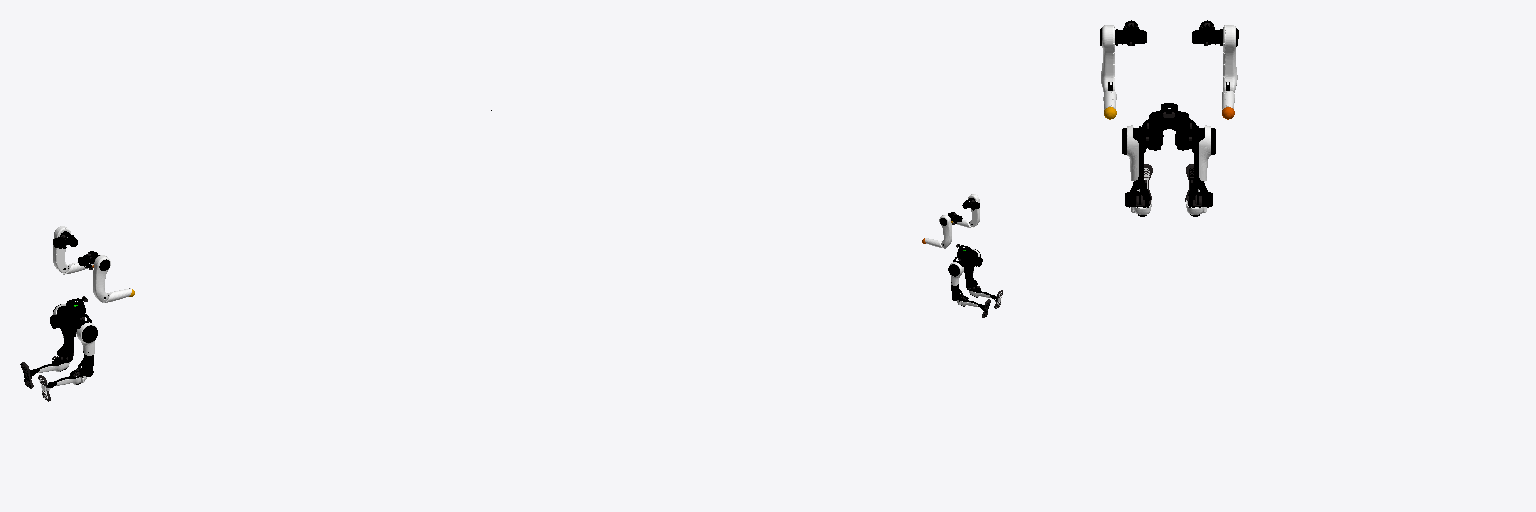
The robot description file, URDF, robot "WuKongIV":
<?xml version="1.0" encoding="utf-8"?>
<robot name="WuKongIV">

  <link name="world">
  </link>
  
  <joint name="BackPin" type="fixed">
    <origin xyz="0 0 2.0" />
    <parent link="world" />
    <child link="SACRUM" />
  </joint>
  
  <link name="SACRUM">
    <inertial>
      <mass value="0" />
      <inertia ixx="0" ixy="0" ixz="0" iyy="0" iyz="0" izz="0" />
    </inertial>
    <visual>
      <geometry>
        <mesh filename="../meshes_dae/SACRUM.dae" />
      </geometry>
    </visual>
  </link>

  <link name="BASE_INER">
    <inertial>
      <origin xyz="0.00096078 -2.1928E-05 -0.025162" />
      <mass value="3.2422" />
      <inertia ixx="0.01008488" ixy="-8.7E-07" ixz="-0.00016364" iyy="0.00548956" iyz="-2.8E-07" izz="0.00997073" />
    </inertial>
  </link>

  <joint name="Base2Iner" type="fixed">
    <parent link="SACRUM" />
    <child link="BASE_INER" />
  </joint>

  <link name="TORSO">
    <inertial>
      <origin xyz="0.002727 0.00010666 0.18215" />
      <mass value="14.544" />
      <inertia ixx="0.44797196" ixy="-0.00008178" ixz="-0.00554868" iyy="0.34075748" iyz="0.00021549" izz="0.17876604" />
    </inertial>
    <visual>
      <geometry>
        <mesh filename="../meshes_dae/TORSO.dae" />
      </geometry>
    </visual>
    <collision>
      <origin xyz="0 0 0.15" />
      <geometry>
        <box size="0.2 0.31 0.48"/>
      </geometry>
    </collision>
  </link>

  <joint name="Waist" type="revolute">
    <origin xyz="0.00010001 0 0.03751" />
    <parent link="SACRUM" />
    <child link="TORSO" />
    <axis xyz="0 0 1" />
    <limit lower="-0.698" upper="0.698" effort="84" velocity="7.85" />
    <dynamics damping="0" friction="0" />
  </joint>

  <link name="SCAPULA_R">
    <inertial>
      <origin xyz="-0.017297 -0.00031922 -0.0027747" />
      <mass value="1.0094" />
      <inertia ixx="0.00072781" ixy="0.00000511" ixz="0.00004844" iyy="0.00090651" iyz="0.0000138" izz="0.00084392" />
    </inertial>
    <visual>
      <geometry>
        <mesh filename="../meshes_dae/SCAPULA_R.dae" />
      </geometry>
    </visual>
  </link>

  <joint name="Shoulder_Z_R" type="revolute">
    <origin xyz="0 -0.1725 0.35275" />
    <parent link="TORSO" />
    <child link="SCAPULA_R" />
    <axis xyz="0 0 -1" />
    <limit lower="-0.366" upper="0.366" effort="100" velocity="4.1" />
    <dynamics damping="0" friction="0" />
  </joint>

  <link name="SHOULDER_R">
    <inertial>
      <origin xyz="-0.0030034 0.022918 0.00033814" />
      <mass value="0.95868" />
      <inertia ixx="0.00071081" ixy="-0.00006653" ixz="1.371E-06" iyy="0.00069481" iyz="0.00000687" izz="0.00077233" />
    </inertial>
    <visual>
      <geometry>
        <mesh filename="../meshes_dae/SHOULDER_R.dae" />
      </geometry>
    </visual>
  </link>

  <joint name="Shoulder_X_R" type="revolute">
    <origin xyz="0.05725 0 0" />
    <parent link="SCAPULA_R" />
    <child link="SHOULDER_R" />
    <axis xyz="-1 0 0" />
    <limit lower="-0.366" upper="0.366" effort="100" velocity="4.1" />
    <dynamics damping="0" friction="0" />
  </joint>

  <link name="UPPERARM_R">
    <inertial>
      <origin xyz="-0.0063123 0.020504 -0.048583" />
      <mass value="1.7239" />
      <inertia ixx="0.01622246" ixy="-0.00031829" ixz="-0.00100646" iyy="0.01499852" iyz="-0.00172217" izz="0.00352944" />
    </inertial>
    <visual>
      <geometry>
        <mesh filename="../meshes_dae/UPPERARM_R.dae" />
      </geometry>
    </visual>
    <collision>
      <origin xyz="-0.01 -0.005 -0.13" />
      <geometry>
        <box size="0.05 0.05 0.26" />
      </geometry>
    </collision> 
    <collision>
      <origin xyz="0 -0.01 0" rpy="1.57 0 0" />
      <geometry>
        <cylinder length="0.06" radius="0.05"/>
      </geometry>
    </collision> 
  </link>

  <joint name="Shoulder_Y_R" type="revolute">
    <origin xyz="0 -0.09525 0" />
    <parent link="SHOULDER_R" />
    <child link="UPPERARM_R" />
    <axis xyz="0 1 0" />
    <limit lower="-1.788" upper="0.714" effort="28" velocity="14.65" />
    <dynamics damping="0" friction="0" />
  </joint>

  <link name="FOREARM_R">
    <inertial>
      <origin xyz="0.10118 -0.00089188 -0.021779" />
      <mass value="0.37113" />
      <inertia ixx="0.00042911" ixy="0.00003147" ixz="0.00090579" iyy="0.00609032" iyz="-0.00000761" izz="0.00587061" />
    </inertial>
    <visual>
      <geometry>
        <mesh filename="../meshes_dae/FOREARM_R.dae" />
      </geometry>
    </visual>
  </link>

  <joint name="Elbow_R" type="revolute">
    <origin xyz="0 0 -0.25" />
    <parent link="UPPERARM_R" />
    <child link="FOREARM_R" />
    <axis xyz="0 1 0" />
    <limit lower="-1.274" upper="0.923" effort="28" velocity="14.65" />
    <dynamics damping="0" friction="0" />
  </joint>

  <link name="HAND_R">
    <inertial>
      <origin xyz="0.020883 0 -0.00068565" />
      <mass value="0.085665" />
      <inertia ixx="3.7989E-05" ixy="0" ixz="-2E-07" iyy="3.1765E-05" iyz="0" izz="3.1772E-05" />
    </inertial>
    <visual>
      <geometry>
        <sphere radius="0.03"/>
      </geometry>
      </visual>
    <collision>
      <origin xyz="0.01 0 0" />
      <geometry>
        <sphere radius="0.03"/>
      </geometry>
    </collision>
  </link>

  <joint name="Wrist_R" type="fixed">
    <origin xyz="0.22429 0 -0.0252" />
    <parent link="FOREARM_R" />
    <child link="HAND_R" />
    <dynamics damping="0" friction="0" />
  </joint>

  <link name="SCAPULA_L">
    <inertial>
      <origin xyz="-0.017301 0.00030058 -0.0027747" />
      <mass value="1.0094" />
      <inertia ixx="0.00072792" ixy="-5.71E-06" ixz="0.0000483" iyy="0.00090637" iyz="0.00001413" izz="0.0008439" />
    </inertial>
    <visual>
      <geometry>
        <mesh filename="../meshes_dae/SCAPULA_L.dae" />
      </geometry>
    </visual>
  </link>

  <joint name="Shoulder_Z_L" type="revolute">
    <origin xyz="0 0.1725 0.35275" />
    <parent link="TORSO" />
    <child link="SCAPULA_L" />
    <axis xyz="0 0 1" />
    <limit lower="-0.366" upper="0.366" effort="100" velocity="4.1" />
    <dynamics damping="0" friction="0" />
  </joint>

  <link name="SHOULDER_L">
    <inertial>
      <origin xyz="-0.0030034 -0.022922 0.00031317" />
      <mass value="0.95868" />
      <inertia ixx="0.00071064" ixy="0.00006639" ixz="0.00001402" iyy="0.00069483" iyz="-0.00000745" izz="0.00077215" />
    </inertial>
    <visual>
      <geometry>
        <mesh filename="../meshes_dae/SHOULDER_L.dae" />
      </geometry>
    </visual>
  </link>

  <joint name="Shoulder_X_L" type="revolute">
    <origin xyz="0.05725 0 0" />
    <parent link="SCAPULA_L" />
    <child link="SHOULDER_L" />
    <axis xyz="1 0 0" />
    <limit lower="-0.366" upper="0.366" effort="100" velocity="4.1" />
    <dynamics damping="0" friction="0" />
  </joint>

  <link name="UPPERARM_L">
    <inertial>
      <origin xyz="-0.0056932 -0.020527 -0.048691" />
      <mass value="1.7224" />
      <inertia ixx="0.01539894" ixy="-1.954E-05" ixz="-0.00132865" iyy="0.01452480" iyz="0.00199437" izz="0.00387488" />
    </inertial>
    <visual>
      <geometry>
        <mesh filename="../meshes_dae/UPPERARM_L.dae" />
      </geometry>
    </visual>
    <collision>
      <origin xyz="-0.01 0.005 -0.13" />
      <geometry>
        <box size="0.05 0.05 0.26" />
      </geometry>
    </collision> 
    <collision>
      <origin xyz="0 0.01 0" rpy="1.57 0 0" />
      <geometry>
        <cylinder length="0.06" radius="0.05"/>
      </geometry>
    </collision> 
  </link> 

  <joint name="Shoulder_Y_L" type="revolute">
    <origin xyz="0 0.09525 0" />
    <parent link="SHOULDER_L" />
    <child link="UPPERARM_L" />
    <axis xyz="0 1 0" />
    <limit lower="-1.788" upper="0.714" effort="28" velocity="14.65" />
    <dynamics damping="0" friction="0" />
  </joint>

  <link name="FOREARM_L">
    <inertial>
      <origin xyz="0.10119 0.00088935 -0.02178" />
      <mass value="0.37117" />
      <inertia ixx="0.00025279" ixy="0.00000211" ixz="8.779E-05" iyy="0.00211374" iyz="4.4E-07" izz="0.00206977" />
    </inertial>
    <visual>
      <geometry>
        <mesh filename="../meshes_dae/FOREARM_L.dae" />
      </geometry>
    </visual>
  </link>

  <joint name="Elbow_L" type="revolute">
    <origin xyz="0 0 -0.25" />
    <parent link="UPPERARM_L" />
    <child link="FOREARM_L" />
    <axis xyz="0 1 0" />
    <limit lower="-1.274" upper="0.923" effort="28" velocity="14.65" />
    <dynamics damping="0" friction="0" />
  </joint>

  <link name="HAND_L">
    <inertial>
      <origin xyz="0.021882 4.6532E-07 -0.00071846" />
      <mass value="0.085665" />
      <inertia ixx="3.7989E-05" ixy="0" ixz="-2E-07" iyy="3.1765E-05" iyz="0" izz="3.1772E-05" />
    </inertial>
    <visual>
      <geometry>
        <sphere radius="0.03"/>
      </geometry>
    </visual>
    <collision>
      <origin xyz="0.01 0 0" />
      <geometry>
        <sphere radius="0.03"/>
      </geometry>
    </collision>
  </link>

  <joint name="Wrist_L" type="fixed">
    <origin xyz="0.2243 0 -0.02505" />
    <parent link="FOREARM_L" />
    <child link="HAND_L" />
    <dynamics damping="0" friction="0" />
  </joint>

  <link name="ILIUM_R">
    <inertial>
      <origin xyz="-0.075151 -0.029746 0.011661" />
      <mass value="1.6695" />
      <inertia ixx="0.0031277" ixy="-0.00030585" ixz="-0.00138371" iyy="0.00641746" iyz="-0.00027709" izz="0.00540224" />
    </inertial>
    <visual>
      <geometry>
        <mesh filename="../meshes_dae/ILIUM_R.dae" />
      </geometry>
    </visual>
    <collision>
      <origin xyz="-0.129 -0.032 0" rpy="0 1.57 0" />
      <geometry>
        <cylinder length="0.02" radius="0.046"/>
      </geometry>
    </collision>
  </link>

  <joint name="Hip_Z_R" type="revolute">
    <origin xyz="0.00010001 -0.045 -0.15049" />
    <parent link="SACRUM" />
    <child link="ILIUM_R" />
    <axis xyz="0 0 -1" />
    <limit lower="-0.174" upper="0.174" effort="84" velocity="7.85" />
    <dynamics damping="0" friction="0" />
  </joint>

  <link name="ISCHIUM_R">
    <inertial>
      <origin xyz="-0.0061454 0.0083018 -0.00041435" />
      <mass value="1.489" />
      <inertia ixx="0.00123482" ixy="-8.78E-05" ixz="-0.00003823" iyy="0.00216773" iyz="-7.68E-06" izz="0.00170290" />
    </inertial>
    <visual>
      <geometry>
        <mesh filename="../meshes_dae/ISCHIUM_R.dae" />
      </geometry>
    </visual>
  </link>

  <joint name="Hip_X_R" type="revolute">
    <origin xyz="0 -0.0325 0" />
    <parent link="ILIUM_R" />
    <child link="ISCHIUM_R" />
    <axis xyz="-1 0 0" />
    <limit lower="-0.349" upper="0.349" effort="84" velocity="7.85" />
    <dynamics damping="0" friction="0" />
  </joint>

  <link name="THIGH_R">
    <inertial>
      <origin xyz="0.0047566 -0.027902 -0.039381" />
      <mass value="3.5319" />
      <inertia ixx="0.02861456" ixy="-0.00013987" ixz="0.00177396" iyy="0.02934292" iyz="0.00138919" izz="0.00585688" />
    </inertial>
    <visual>
      <geometry>
        <mesh filename="../meshes_dae/THIGH_R.dae" />
      </geometry>
    </visual>
    <collision>
      <origin xyz="0 -0.02 -0.132" />
      <geometry>
        <cylinder length="0.30" radius="0.05"/>
      </geometry>
    </collision>
    <collision>
      <origin xyz="0 -0.04 -0.01" rpy="1.57 0 0" />
      <geometry>
        <cylinder length="0.10" radius="0.066"/>
      </geometry>
    </collision>
  </link>

  <joint name="Hip_Y_R" type="revolute">
    <origin xyz="0 -0.0432 0" />
    <parent link="ISCHIUM_R" />
    <child link="THIGH_R" />
    <axis xyz="0 1 0" />
    <limit lower="-2.207" upper="0.462" effort="84" velocity="7.85" />
    <dynamics damping="0" friction="0" />
  </joint>

  <link name="SHANK_R">
    <inertial>
      <origin xyz="0.010628 -0.0095812 -0.051247" />
      <mass value="2.7397" />
      <inertia ixx="0.01492817" ixy="-0.00027923" ixz="0.00061306" iyy="0.01461087" iyz="0.00072764" izz="0.00321124" />
    </inertial>
    <visual>
      <geometry>
        <mesh filename="../meshes_dae/SHANK_R.dae" />
      </geometry>
    </visual>
    <collision>
      <origin xyz="0.02 0 -0.16" rpy="0 0.3 0" />
      <geometry>
        <cylinder length="0.18" radius="0.02"/>
      </geometry>
    </collision>
    <collision>
      <origin xyz="0.05 0 -0.04" rpy="0 1.57 0" />
      <geometry>
        <cylinder length="0.05" radius="0.036"/>
      </geometry>
    </collision>
    <collision>
      <origin xyz="0.05 0 -0.06" rpy="0 1.57 0" />
      <geometry>
        <cylinder length="0.05" radius="0.036"/>
      </geometry>
    </collision>
  </link>

  <joint name="Knee_R" type="revolute">
    <origin xyz="0 0 -0.3" />
    <parent link="THIGH_R" />
    <child link="SHANK_R" />
    <axis xyz="0 1 0" />
    <limit lower="0.071" upper="2.617" effort="180" velocity="12" />
    <dynamics damping="0" friction="0" />
  </joint>

  <link name="ASTRAGALUS_R">
    <inertial>
      <origin xyz="-0.014376 -3.454E-05 0.0057672" />
      <mass value="0.068615" />
      <inertia ixx="8.86E-06" ixy="-2E-08" ixz="5.49E-07" iyy="0.00002951" iyz="4E-08" izz="0.00002574" />
    </inertial>
    <visual>
      <geometry>
        <mesh filename="../meshes_dae/ASTRAGALUS.dae" />
      </geometry>
    </visual>
  </link>

  <joint name="Ankle_Y_R" type="revolute">
    <origin xyz="0 0 -0.3" />
    <parent link="SHANK_R" />
    <child link="ASTRAGALUS_R" />
    <axis xyz="0 1 0" />
    <limit lower="-1.134" upper="0.261" effort="28" velocity="14.65" />
    <dynamics damping="0" friction="0" />
  </joint>

  <link name="FOOT_R">
    <inertial>
      <origin xyz="-5.1084E-10 -0.0010736 -0.024732" />
      <mass value="0.23297" />
      <inertia ixx="0.00010981" ixy="-2.5096E-10" ixz="8.0022E-13" iyy="0.00058824" iyz="3.92E-06" izz="0.00065893" />
    </inertial>
    <visual>
      <geometry>
        <mesh filename="../meshes_dae/FOOT_R.dae" />
      </geometry>
    </visual>
  </link>

  <joint name="Ankle_X_R" type="revolute">
    <parent link="ASTRAGALUS_R" />
    <child link="FOOT_R" />
    <axis xyz="-1 0 0" />
    <limit lower="-0.222" upper="0.222" effort="28" velocity="14.65" />
    <dynamics damping="0" friction="0" />
  </joint>

  <link name="TIPTOE_R">
    <inertial>
      <origin xyz="0.001 0.001 -0.0052715" />
      <mass value="0.19293" />
      <inertia ixx="0.00012184" ixy="0" ixz="0" iyy="0.00079695" iyz="0" izz="0.00090791" />
    </inertial>
    <visual>
      <geometry>
        <mesh filename="../meshes_dae/TIPTOE.dae" />
      </geometry>
    </visual>
    <collision>
      <origin xyz="0 0 0.005"/>
      <geometry>
        <box size="0.18 0.08 0.01"/>
      </geometry>
    </collision>
  </link>

  <joint name="Tiptoe_Z_R" type="fixed">
    <origin xyz="0 0 -0.031" />
    <parent link="FOOT_R" />
    <child link="TIPTOE_R" />
  </joint>

  <link name="ILIUM_L">
    <inertial>
      <origin xyz="-0.075166 0.029681 0.011765" />
      <mass value="1.6675" />
      <inertia ixx="0.00312613" ixy="0.0003" ixz="-0.0013813" iyy="0.00641573" iyz="0.00027496" izz="0.00540253" />
    </inertial>
    <visual>
      <geometry>
        <mesh filename="../meshes_dae/ILIUM_L.dae" />
      </geometry>
    </visual>
    <collision>
      <origin xyz="-0.129 0.032 0" rpy="0 1.57 0" />
      <geometry>
        <cylinder length="0.02" radius="0.046"/>
      </geometry>
    </collision>
  </link>

  <joint name="Hip_Z_L" type="revolute">
    <origin xyz="0.00010001 0.045 -0.15049" />
    <parent link="SACRUM" />
    <child link="ILIUM_L" />
    <axis xyz="0 0 1" />
    <limit lower="-0.174" upper="0.174" effort="84" velocity="7.85" />
    <dynamics damping="0" friction="0" />
  </joint>

  <link name="ISCHIUM_L">
    <inertial>
      <origin xyz="-0.0061396 -0.0083018 -0.00049822" />
      <mass value="1.489" />
      <inertia ixx="0.00123473" ixy="0.00008691" ixz="-0.00003659" iyy="0.00216555" iyz="0.00000356" izz="0.00170081" />
    </inertial>
    <visual>
      <geometry>
        <mesh filename="../meshes_dae/ISCHIUM_L.dae" />
      </geometry>
    </visual>
  </link>

  <joint name="Hip_X_L" type="revolute">
    <origin xyz="0 0.0325 0" />
    <parent link="ILIUM_L" />
    <child link="ISCHIUM_L" />
    <axis xyz="1 0 0" />
    <limit lower="-0.349" upper="0.349" effort="84" velocity="7.85" />
    <dynamics damping="0" friction="0" />
  </joint>

  <link name="THIGH_L">
    <inertial>
      <origin xyz="0.0048204 0.029872 -0.039658" />
      <mass value="3.5416" />
      <inertia ixx="0.02873630" ixy="0.00014184" ixz="0.00179307" iyy="0.02945913" iyz="-0.00141552" izz="0.00587297" />
    </inertial>
    <visual>
      <geometry>
        <mesh filename="../meshes_dae/THIGH_L.dae" />
      </geometry>
    </visual>
    <collision>
      <origin xyz="0 0.02 -0.132" />
      <geometry>
        <cylinder length="0.30" radius="0.05"/>
      </geometry>
    </collision>
    <collision>
      <origin xyz="0 0.04 -0.01" rpy="1.57 0 0" />
      <geometry>
        <cylinder length="0.10" radius="0.066"/>
      </geometry>
    </collision>
  </link>

  <joint name="Hip_Y_L" type="revolute">
    <origin xyz="0 0.0412 0" />
    <parent link="ISCHIUM_L" />
    <child link="THIGH_L" />
    <axis xyz="0 1 0" />
    <limit lower="-2.207" upper="0.462" effort="84" velocity="7.85" />
    <dynamics damping="0" friction="0" />
  </joint>

  <link name="SHANK_L">
    <inertial>
      <origin xyz="0.010866 0.0095055 -0.052181" />
      <mass value="2.7463" />
      <inertia ixx="0.01498291" ixy="0.0002868" ixz="0.00062657" iyy="0.01462625" iyz="-0.00072343" izz="0.00332056" />
    </inertial>
    <visual>
      <geometry>
        <mesh filename="../meshes_dae/SHANK_L.dae" />
      </geometry>
    </visual>
    <collision>
      <origin xyz="0.02 0 -0.16" rpy="0 0.3 0" />
      <geometry>
        <cylinder length="0.18" radius="0.02"/>
      </geometry>
    </collision>
    <collision>
      <origin xyz="0.05 0 -0.04" rpy="0 1.57 0" />
      <geometry>
        <cylinder length="0.05" radius="0.036"/>
      </geometry>
    </collision>
    <collision>
      <origin xyz="0.05 0 -0.06" rpy="0 1.57 0" />
      <geometry>
        <cylinder length="0.05" radius="0.036"/>
      </geometry>
    </collision>
  </link>

  <joint name="Knee_L" type="revolute">
    <origin xyz="0 0 -0.3" />
    <parent link="THIGH_L" />
    <child link="SHANK_L" />
    <axis xyz="0 1 0" />
    <limit lower="0.071" upper="2.617" effort="180" velocity="12" />
    <dynamics damping="0" friction="0" />
  </joint>

  <link name="ASTRAGALUS_L">
    <inertial>
      <origin xyz="-0.014376 -3.4496E-05 0.0057671" />
      <mass value="0.068615" />
      <inertia ixx="8.86E-06" ixy="-2E-08" ixz="5.49E-06" iyy="0.00002951" iyz="4E-08" izz="0.00002574" />
    </inertial>
    <visual>
      <geometry>
        <mesh filename="../meshes_dae/ASTRAGALUS.dae" />
      </geometry>
    </visual>
  </link>

  <joint name="Ankle_Y_L" type="revolute">
    <origin xyz="0 0 -0.3" />
    <parent link="SHANK_L" />
    <child link="ASTRAGALUS_L" />
    <axis xyz="0 1 0" />
    <limit lower="-1.134" upper="0.261" effort="28" velocity="14.65" />
    <dynamics damping="0" friction="0" />
  </joint>

  <link name="FOOT_L">
    <inertial>
      <origin xyz="1.1755E-08 0.0010736 -0.024732" />
      <mass value="0.23297" />
      <inertia ixx="0.00010981" ixy="-2.5096E-10" ixz="-8.0022E-13" iyy="0.00058824" iyz="-3.9216E-06" izz="0.00065893" />
    </inertial>
    <visual>
      <geometry>
        <mesh filename="../meshes_dae/FOOT_L.dae" />
      </geometry>
    </visual>
  </link>

  <joint name="Ankle_X_L" type="revolute">
    <parent link="ASTRAGALUS_L" />
    <child link="FOOT_L" />
    <axis xyz="1 0 0" />
    <limit lower="-0.222" upper="0.222" effort="28" velocity="14.65" />
    <dynamics damping="0" friction="0" />
  </joint>

  <link name="TIPTOE_L">
    <inertial>
      <origin xyz="0 0 -0.0052715" />
      <mass value="0.19293" />
      <inertia ixx="0.00012184" ixy="0" ixz="0" iyy="0.00079695" iyz="0" izz="0.00090791" />
    </inertial>
    <visual>
      <geometry>
        <mesh filename="../meshes_dae/TIPTOE.dae" />
      </geometry>
    </visual>
    <collision>
      <origin xyz="0 0 0.005"/>
      <geometry>
        <box size="0.18 0.08 0.01"/>
      </geometry>
    </collision>
  </link>

  <joint name="Tiptoe_Z_L" type="fixed">
    <origin xyz="0 0 -0.031" />
    <parent link="FOOT_L" />
    <child link="TIPTOE_L" />
  </joint>
</robot>

--- What the picture shows (computed from the rendered views, not written in the file) ---
The picture shows the robot from 3 angles, left to right: view 1: azimuth 30°, elevation 25°; view 2: azimuth 150°, elevation 25°; view 3: azimuth 270°, elevation 25°; orthographic projection.
Model WuKongIV with 28 links and 27 joints (21 revolute, 6 fixed), rooted at world, posed all joints at 0 but 2 set to mid-range because 0 is outside their limits (Knee_R = 1.34, Knee_L = 1.34).
Visible links, largest first — view 1: THIGH_R, UPPERARM_R; view 2: none; view 3: THIGH_R, THIGH_L, UPPERARM_L, UPPERARM_R, SACRUM.
Link boxes in pixels (bbox=[...]): THIGH_R: bbox=[76, 320, 97, 376]; UPPERARM_R: bbox=[92, 254, 110, 301]; THIGH_R: bbox=[1122, 125, 1148, 207]; THIGH_L: bbox=[1189, 125, 1215, 207]; UPPERARM_L: bbox=[1206, 25, 1238, 92]; UPPERARM_R: bbox=[1100, 25, 1131, 91]; SACRUM: bbox=[1147, 103, 1191, 130].
Size in the robot's own frame: 4.39 by 1.64 by 1.06 metres.
Meshes: 22 distinct files referenced, 23 mesh visuals loaded (21 Collada DAE); not drawn: 1 (reference not matched to a file when rendering).
